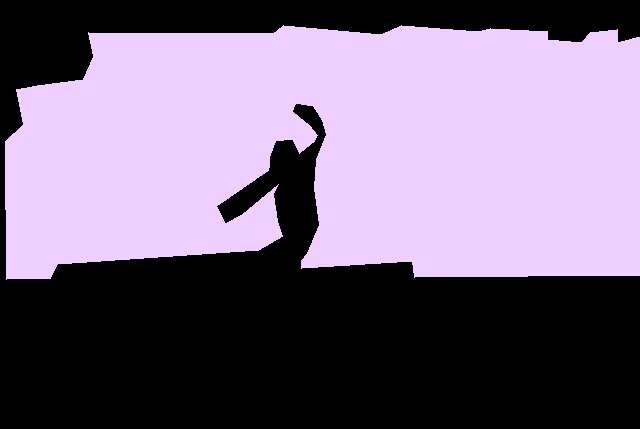Train: (5, 25, 640, 280)
